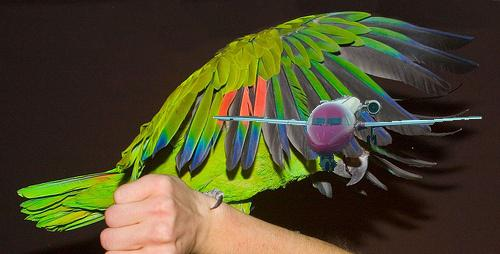tampered: (214, 96, 482, 171)
